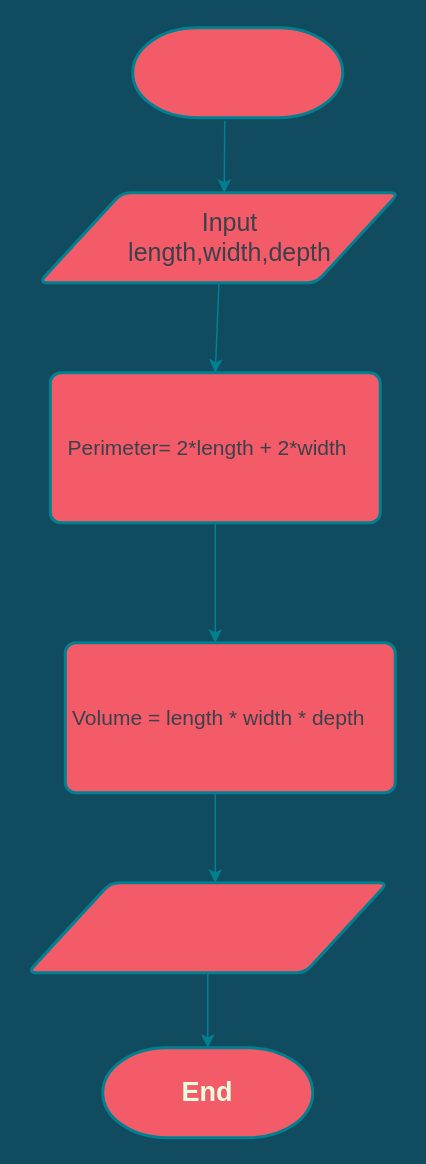
Some shapes in this 426 by 1164 pixel diagram are drawn without their labels. The centre of each missing label's shape, as x and y in pixels:
Print Perimeter and Volume: point 207,927
Start: point 237,72
